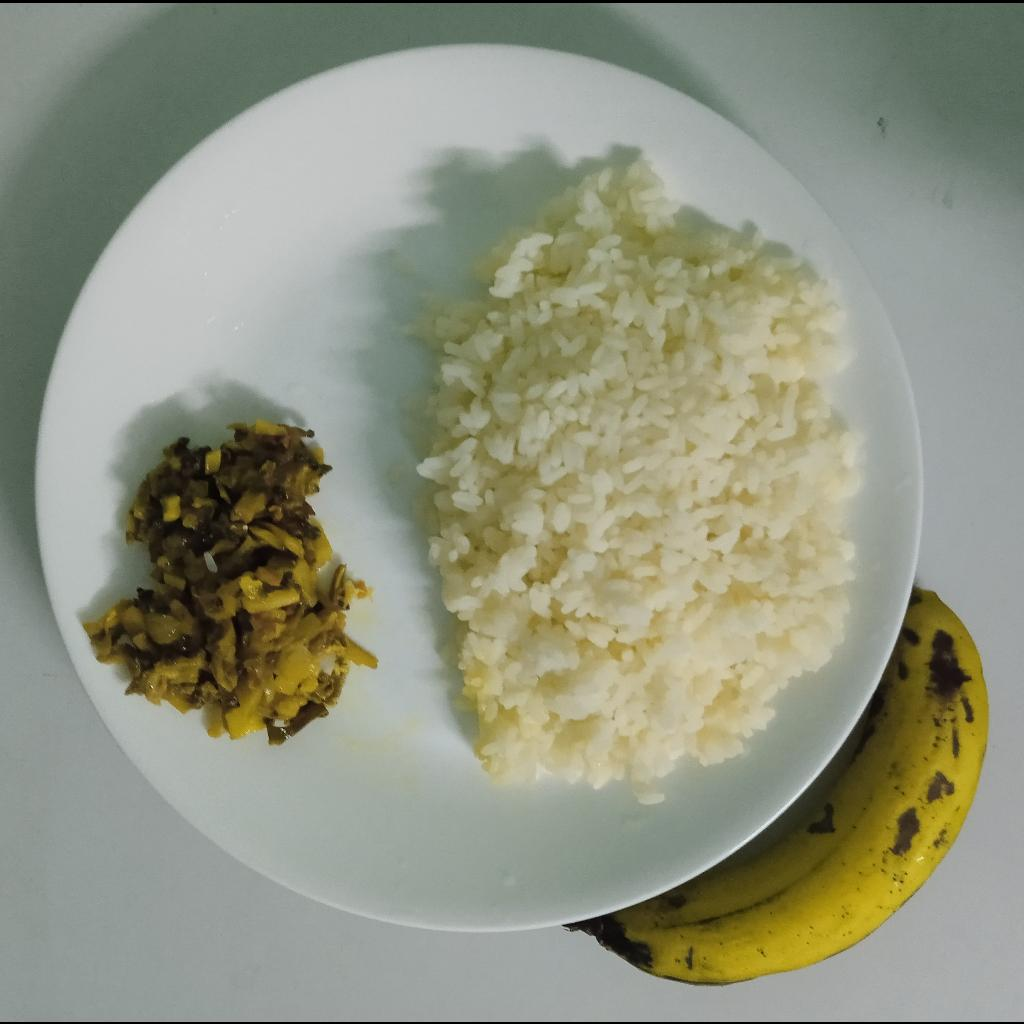banana: (573, 586, 988, 986)
rice: (401, 154, 863, 796)
vegetable: (73, 422, 382, 750)
